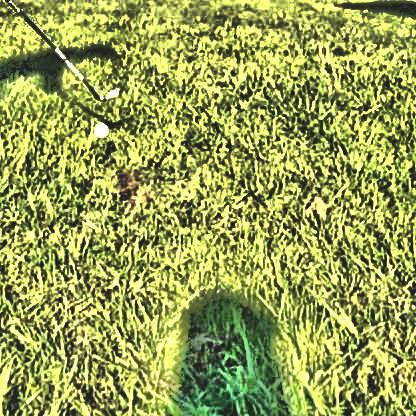golfball: (90, 118, 107, 135)
